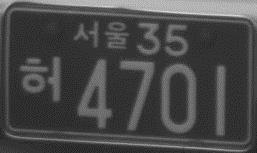0: (159, 63, 198, 133)
1: (208, 63, 232, 139)
3: (134, 21, 162, 55)
4: (75, 58, 113, 129)
5: (162, 23, 189, 57)
7: (117, 59, 157, 133)
서울_O: (72, 19, 129, 50)
허: (18, 52, 63, 104)
